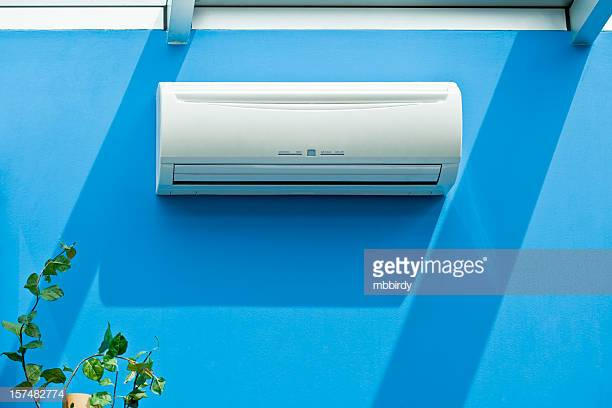AC: (154, 83, 464, 198)
